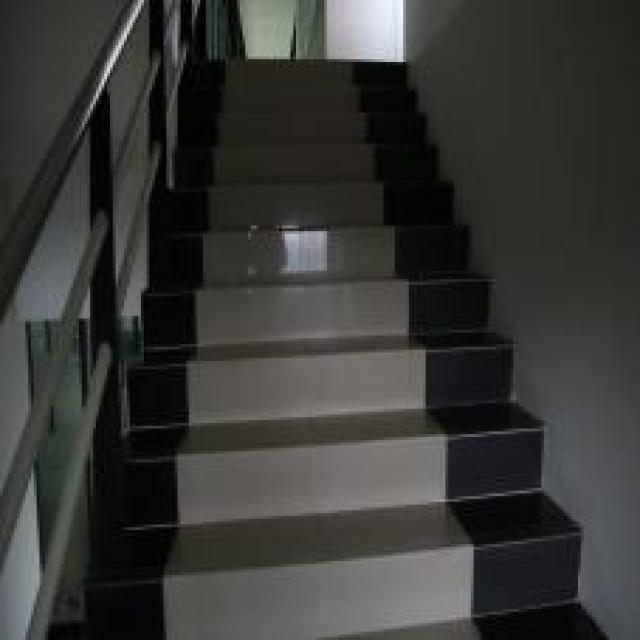upstair: (215, 63, 438, 638)
